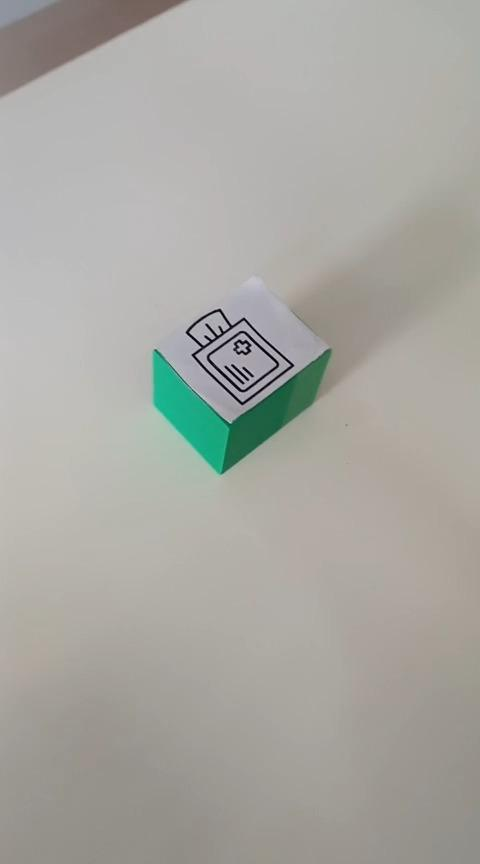Gauze: (151, 273, 332, 475)
